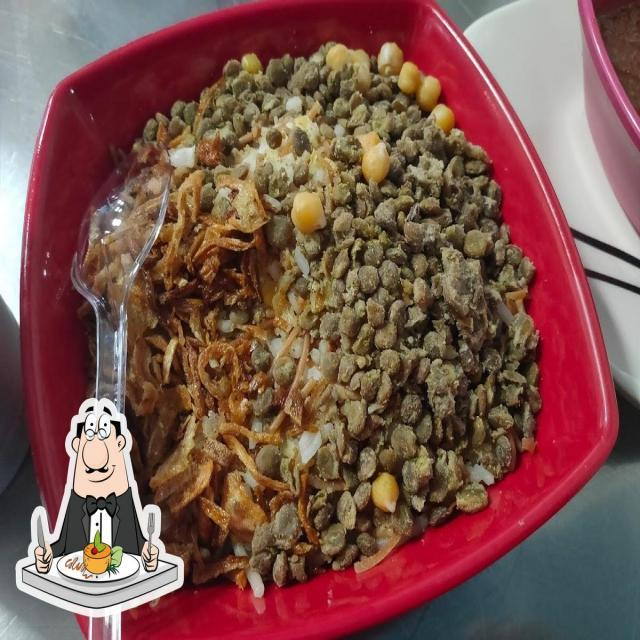koshary: (93, 42, 546, 586)
